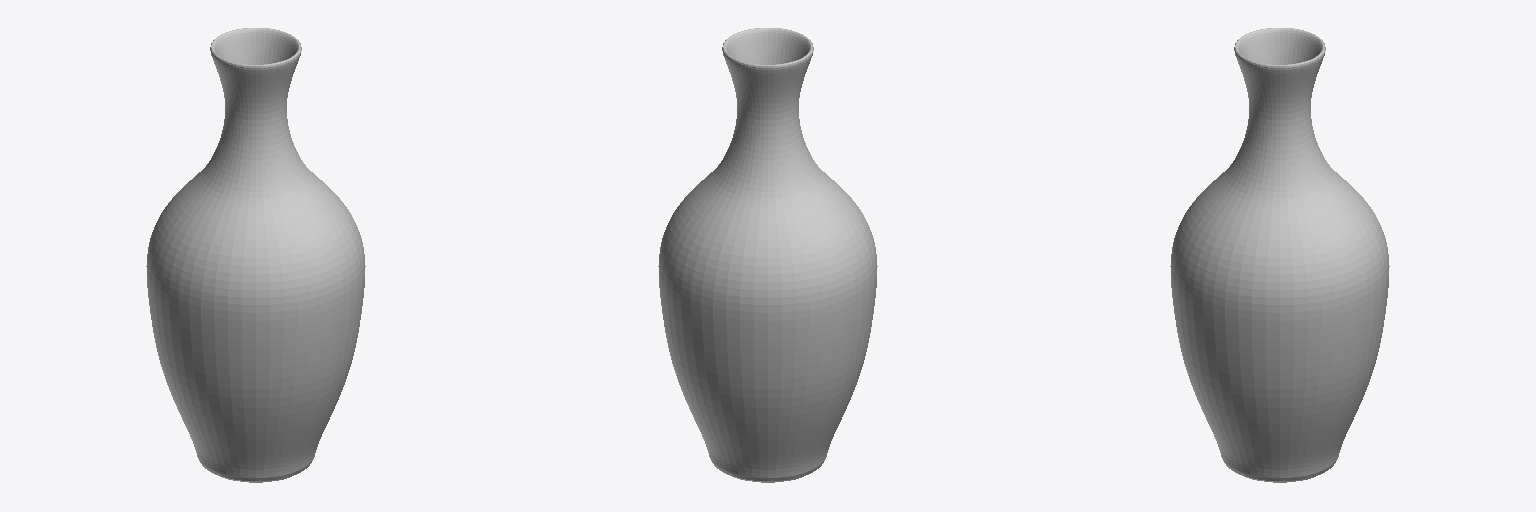
The model's file is vase.obj.
3 renders of one model, left to right at view 1: azimuth 30°, elevation 25°; view 2: azimuth 150°, elevation 25°; view 3: azimuth 270°, elevation 25°, orthographic.
Visible parts, largest first — view 1: Plane; view 2: Plane; view 3: Plane.
Boxes of the visible parts, <box> form: Plane: <box>146,28,365,482</box>; Plane: <box>658,28,877,482</box>; Plane: <box>1170,28,1389,482</box>.
Size of the model in its own units: 0.3511 by 0.7413 by 0.3511.